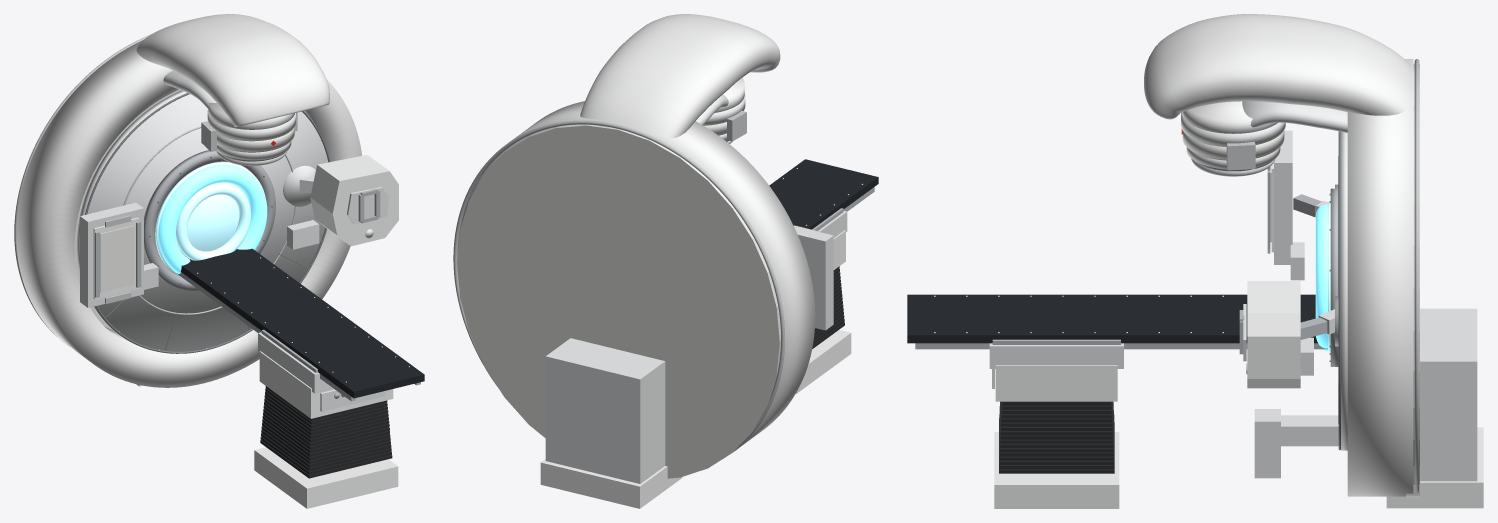
File: versa hd without patient.glb
The picture shows the model from 3 angles, left to right: view 1: azimuth 30°, elevation 25°; view 2: azimuth 150°, elevation 25°; view 3: azimuth 270°, elevation 25°; orthographic projection. The views are drawn at different scales.
Visible parts, largest first — view 1: Gantry_Outer_Ring, Gantry_Inner_Fascia, Couch_Carbon_Top, Organic_Arm_Main, KV_Source_Housing, Couch_Base, Bore_Cyan_Ring_Outer, Bore_Metal_Frame, Bore_Cyan_Back, Left_Detector_Back, Bore_Cyan_Ring_Inner, Couch_Mechanics_Box (+33 smaller); view 2: Gantry_Back_Disc.001, Organic_Arm_Main, Rear_Lower_Column, Gantry_Outer_Ring, Couch_Carbon_Top, Rear_Floor_Foot, Outer_Shell_Outer_Lip, Left_Detector_Back, Couch_Base, Head_Side_Bracket_-1; view 3: Gantry_Outer_Ring, Organic_Arm_Main, Couch_Carbon_Top, Rear_Lower_Column, KV_Source_Housing, Couch_Base, Couch_Mechanics_Box, Couch_Upper_Frame, Rear_Floor_Foot, Outer_Shell_Outer_Lip, Left_Detector_Back, Gantry_Inner_Fascia (+15 smaller).
Boxes of the visible parts, x1=… form: Gantry_Outer_Ring: x1=16, y1=40, x2=362, y2=387; Gantry_Inner_Fascia: x1=76, y1=90, x2=328, y2=351; Couch_Carbon_Top: x1=181, y1=248, x2=424, y2=398; Organic_Arm_Main: x1=136, y1=14, x2=329, y2=126; KV_Source_Housing: x1=310, y1=155, x2=398, y2=246; Couch_Base: x1=254, y1=447, x2=398, y2=508; Bore_Cyan_Ring_Outer: x1=158, y1=164, x2=267, y2=273; Bore_Metal_Frame: x1=144, y1=150, x2=275, y2=291; Bore_Cyan_Back: x1=155, y1=162, x2=265, y2=276; Left_Detector_Back: x1=80, y1=202, x2=143, y2=307; Bore_Cyan_Ring_Inner: x1=176, y1=182, x2=250, y2=260; Couch_Mechanics_Box: x1=259, y1=351, x2=393, y2=418; Gantry_Back_Disc.001: x1=457, y1=124, x2=780, y2=478; Organic_Arm_Main: x1=580, y1=14, x2=780, y2=138; Rear_Lower_Column: x1=545, y1=338, x2=665, y2=483; Gantry_Outer_Ring: x1=457, y1=101, x2=815, y2=448; Couch_Carbon_Top: x1=769, y1=159, x2=878, y2=229; Rear_Floor_Foot: x1=540, y1=459, x2=682, y2=508; Outer_Shell_Outer_Lip: x1=453, y1=120, x2=784, y2=450; Left_Detector_Back: x1=794, y1=226, x2=833, y2=330; Couch_Base: x1=796, y1=330, x2=851, y2=393; Head_Side_Bracket_-1: x1=727, y1=110, x2=746, y2=141; Gantry_Outer_Ring: x1=1347, y1=59, x2=1413, y2=496; Organic_Arm_Main: x1=1144, y1=14, x2=1414, y2=119; Couch_Carbon_Top: x1=907, y1=294, x2=1317, y2=343; Rear_Lower_Column: x1=1420, y1=308, x2=1477, y2=481; KV_Source_Housing: x1=1247, y1=281, x2=1300, y2=388; Couch_Base: x1=994, y1=432, x2=1119, y2=508; Couch_Mechanics_Box: x1=995, y1=365, x2=1117, y2=401; Couch_Upper_Frame: x1=989, y1=343, x2=1123, y2=368; Rear_Floor_Foot: x1=1386, y1=427, x2=1483, y2=508; Outer_Shell_Outer_Lip: x1=1414, y1=59, x2=1419, y2=493; Left_Detector_Back: x1=1274, y1=130, x2=1292, y2=264; Gantry_Inner_Fascia: x1=1341, y1=132, x2=1347, y2=450.
Size of the model in its own units: 2.8 by 3.2 by 3.69.
